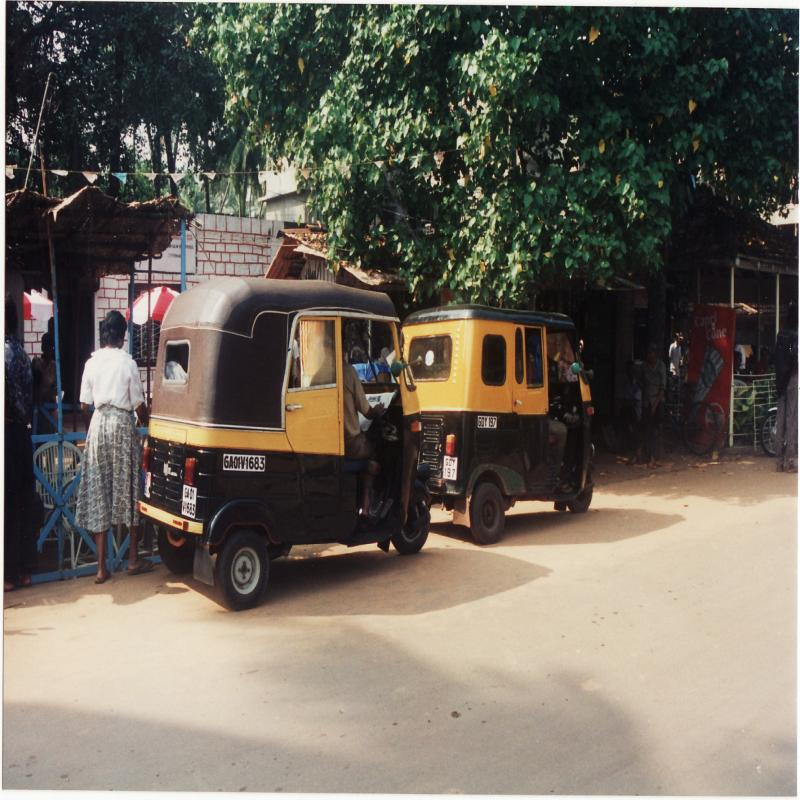auto: (143, 218, 415, 566), (408, 286, 646, 538)
